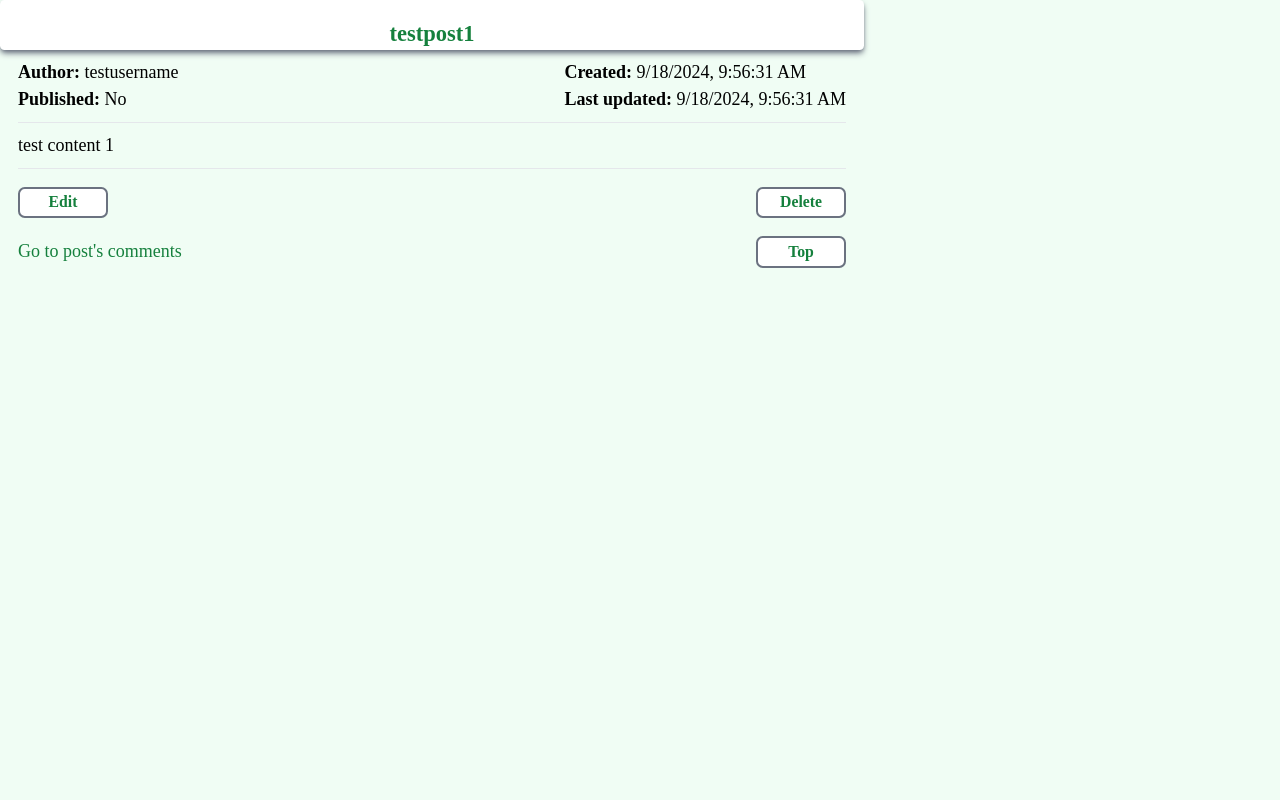
Test: postDeleteModal tests › confirm button deletes the post and redirect to updated posts page
The image size is (1280, 800).
Click the button "Delete". click: (801, 202)
box: [756, 186, 846, 218]
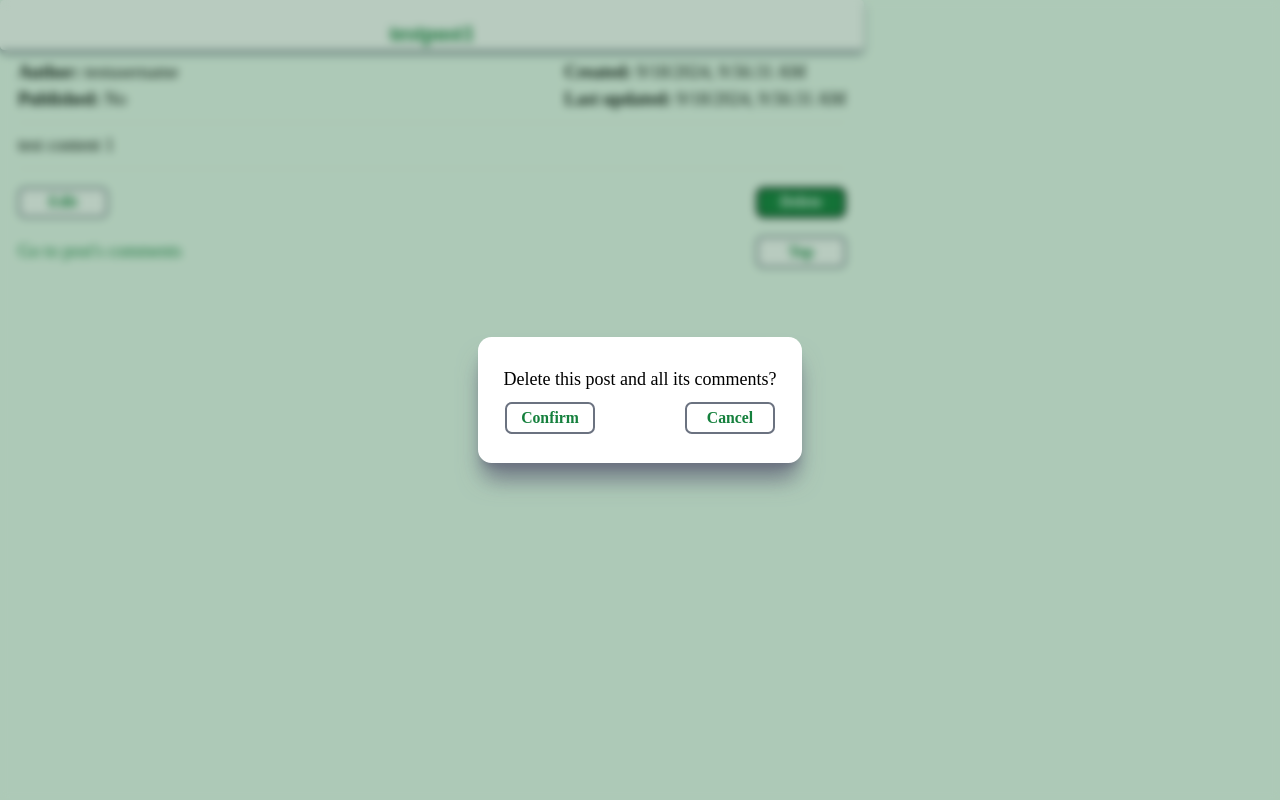
Click the button "Confirm". click: (550, 418)
box: [505, 402, 595, 434]
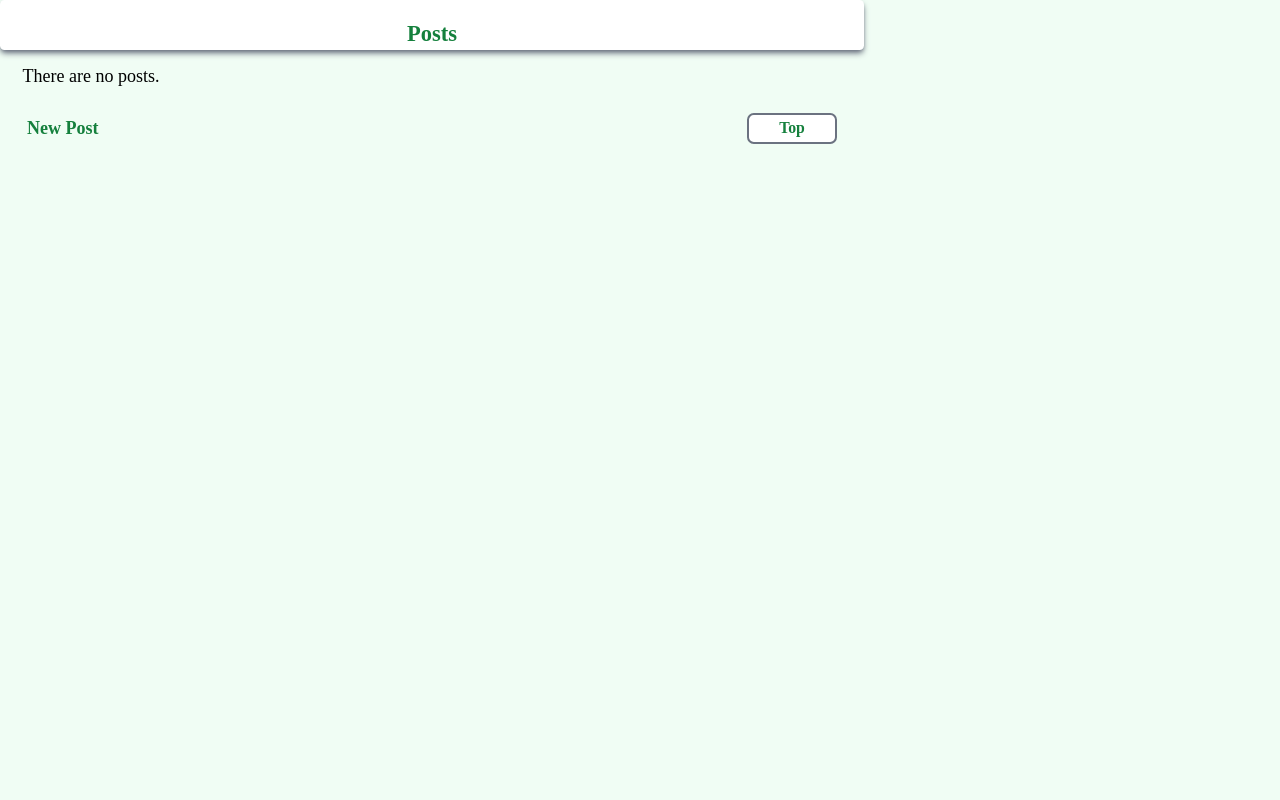
Expected: the heading "Posts" is shown, [407, 21, 457, 46]
Expected: the heading "testpost1" is gone
Expected: the heading "There are no posts." is shown, [22, 66, 160, 86]
